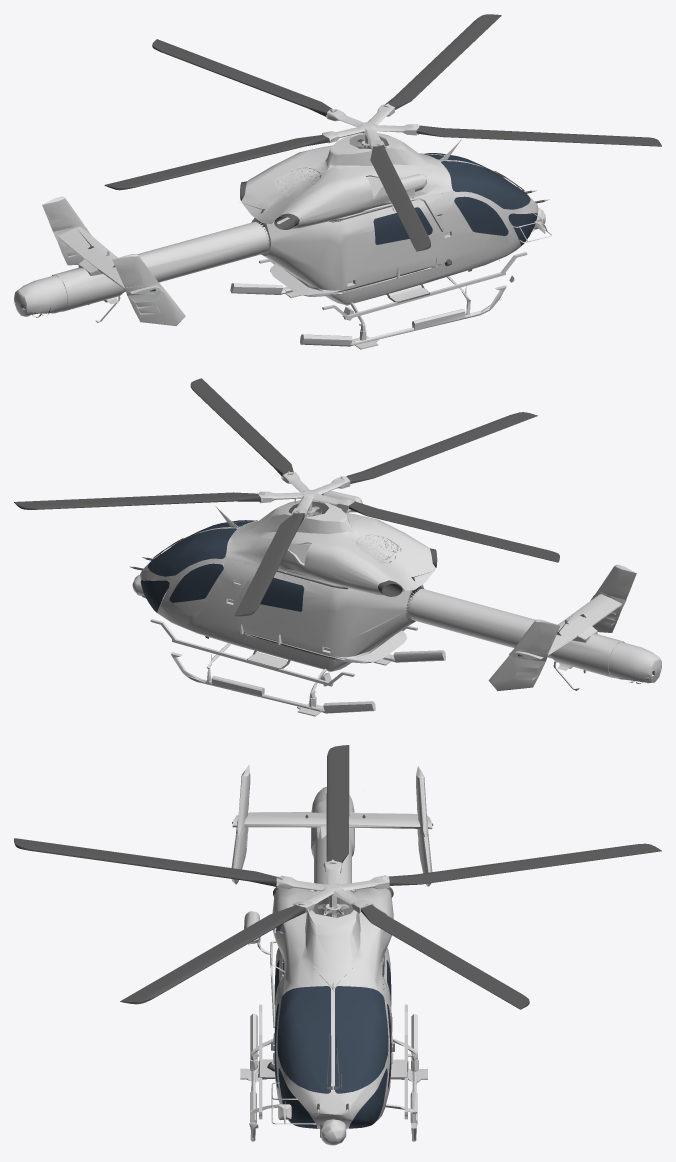
The picture shows the model from 3 angles, top to bottom: view 1: azimuth 30°, elevation 25°; view 2: azimuth 150°, elevation 25°; view 3: azimuth 270°, elevation 25°; orthographic projection. The views are drawn at different scales.
Visible parts, largest first — view 1: body, spin, glass, trim; view 2: body, spin, glass, trim; view 3: body, spin, glass, trim.
Boxes of the visible parts, left/top/right/bottom form: body: left=14, top=103, right=551, bottom=349; spin: left=104, top=14, right=661, bottom=251; glass: left=150, top=153, right=537, bottom=291; trim: left=21, top=167, right=544, bottom=317; body: left=129, top=471, right=661, bottom=716; spin: left=14, top=378, right=559, bottom=616; glass: left=140, top=520, right=522, bottom=656; trim: left=134, top=534, right=654, bottom=683; body: left=231, top=765, right=432, bottom=1145; spin: left=14, top=745, right=661, bottom=1009; glass: left=232, top=822, right=432, bottom=1128; trim: left=258, top=811, right=408, bottom=1109.
Size of the model in its own units: 2.2 by 0.6893 by 1.9.
